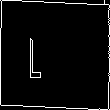L_N: (48, 29, 62, 81)
